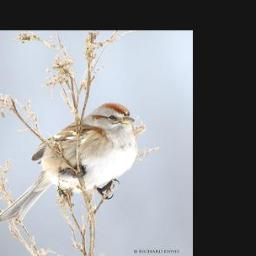Sparrow: (0, 102, 138, 222)
